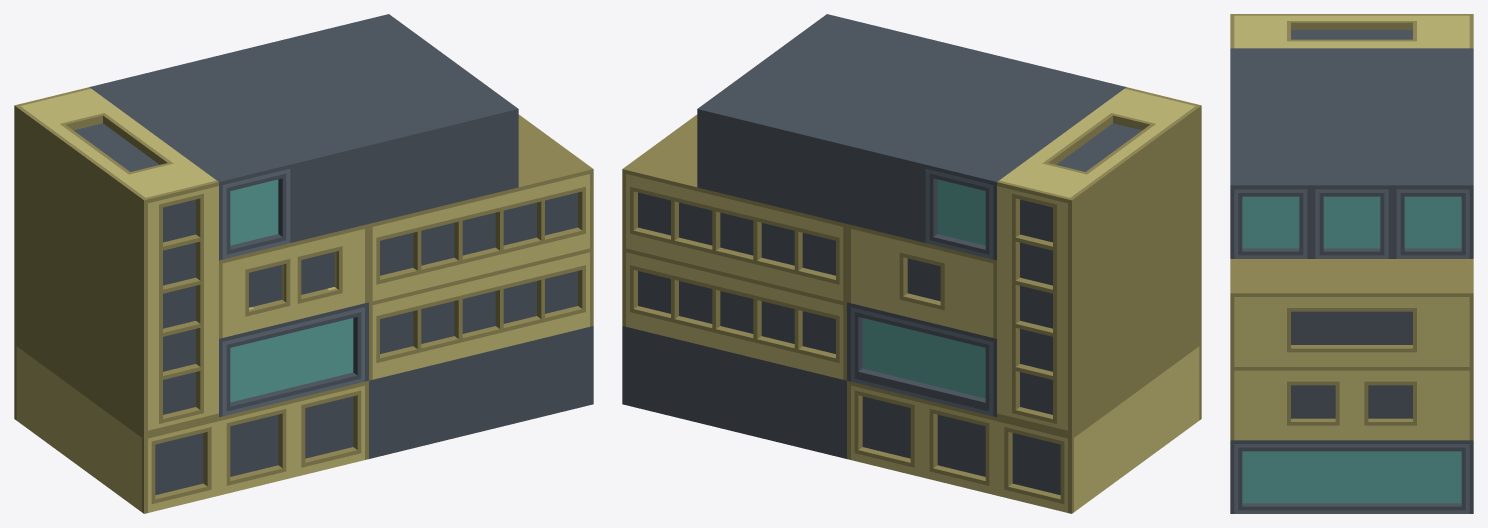
The model's file is Buildings_01-0.obj.
3 views of the same model, side by side, from view 1: azimuth 30°, elevation 25°; view 2: azimuth 150°, elevation 25°; view 3: azimuth 270°, elevation 25° (orthographic). The views are drawn at different scales.
Bounding box in the file's own units: 12 × 8 × 6.
1 material, 1 textured.
